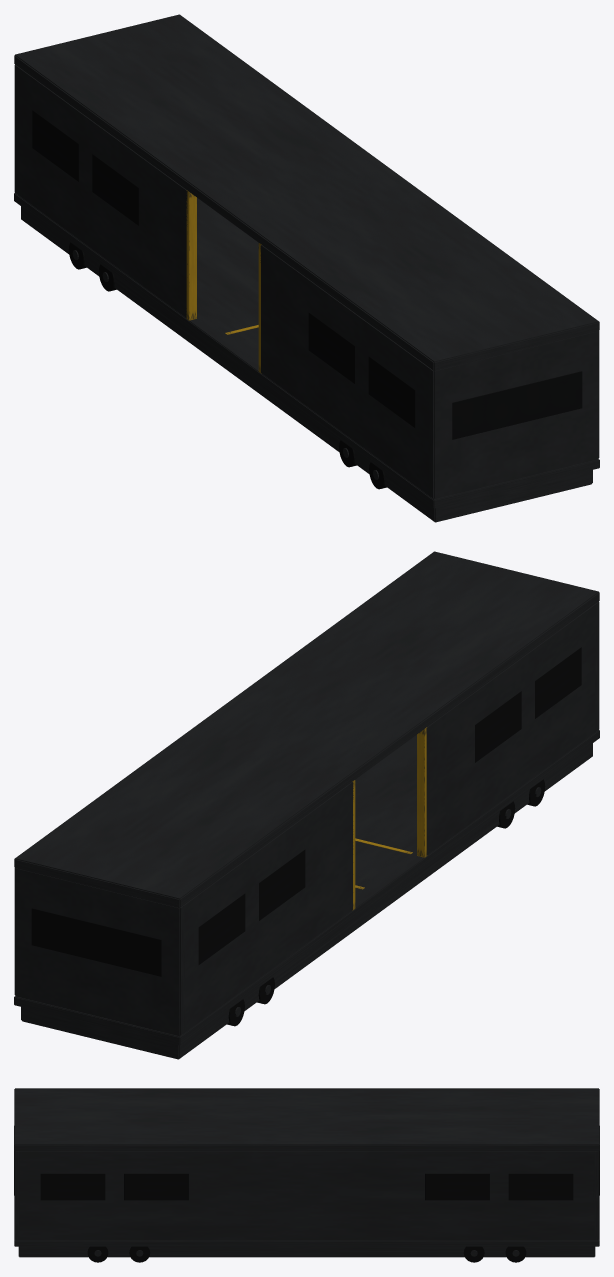
The model's file is RailDepartureCoach.fbx.
The picture shows the model from 3 angles, top to bottom: view 1: azimuth 30°, elevation 25°; view 2: azimuth 150°, elevation 25°; view 3: azimuth 270°, elevation 25°; orthographic projection. The views are drawn at different scales.
Parts seen in each view (by area): view 1: RailDepartureCoach.001; view 2: RailDepartureCoach.001; view 3: RailDepartureCoach.001.
Boxes of the visible parts, x1=… form: RailDepartureCoach.001: x1=14, y1=14, x2=599, y2=522; RailDepartureCoach.001: x1=14, y1=551, x2=599, y2=1059; RailDepartureCoach.001: x1=14, y1=1088, x2=599, y2=1262.
Bounding box in the file's own units: 3.2 × 3.14 × 14.02.
